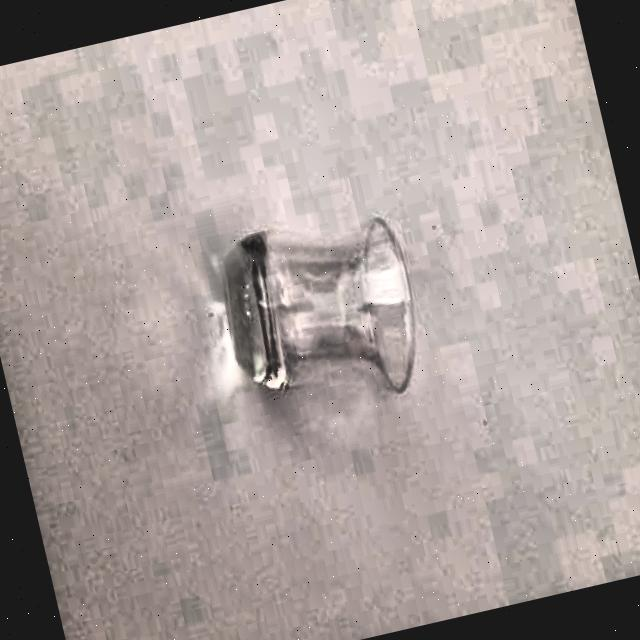glass: (208, 206, 420, 419)
